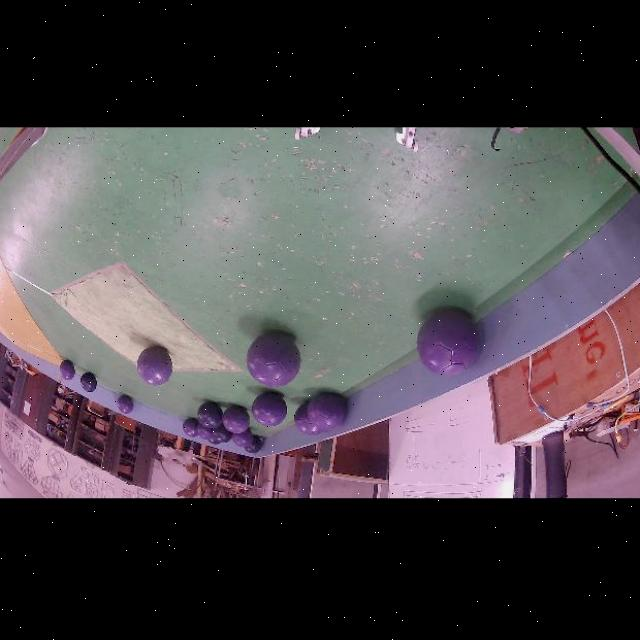B: (197, 401, 223, 428), (213, 424, 232, 443), (245, 435, 263, 453), (81, 372, 97, 392)
P: (417, 310, 480, 376), (246, 332, 302, 387), (308, 392, 346, 430), (137, 346, 173, 386), (251, 392, 287, 426), (294, 403, 322, 435), (223, 405, 250, 434), (232, 428, 253, 446), (59, 360, 76, 381), (117, 395, 134, 414), (183, 418, 198, 437)
